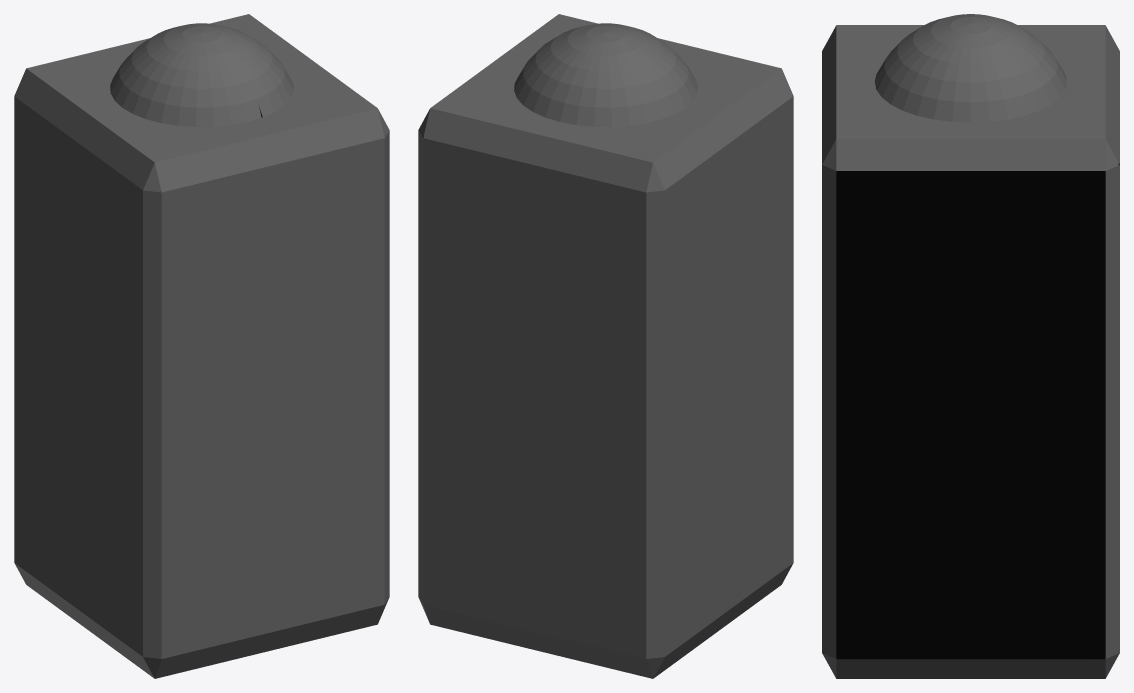
The model's file is Drink_Machine.gltf.
3 views of the same model, side by side, from view 1: azimuth 30°, elevation 25°; view 2: azimuth 150°, elevation 25°; view 3: azimuth 270°, elevation 25° (orthographic). The views are drawn at different scales.
Parts seen in each view (by area): view 1: Drink_Mechine; view 2: Drink_Mechine; view 3: Drink_Mechine.
Boxes of the visible parts, <box> form: Drink_Mechine: <box>14,14,389,678</box>; Drink_Mechine: <box>418,14,793,678</box>; Drink_Mechine: <box>822,14,1119,678</box>.
Size of the model in its own units: 1 by 2.22 by 1.
1 material, 1 textured.
